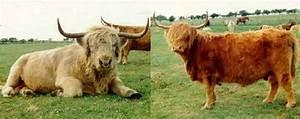cow: (150, 9, 298, 110), (0, 16, 142, 99)
